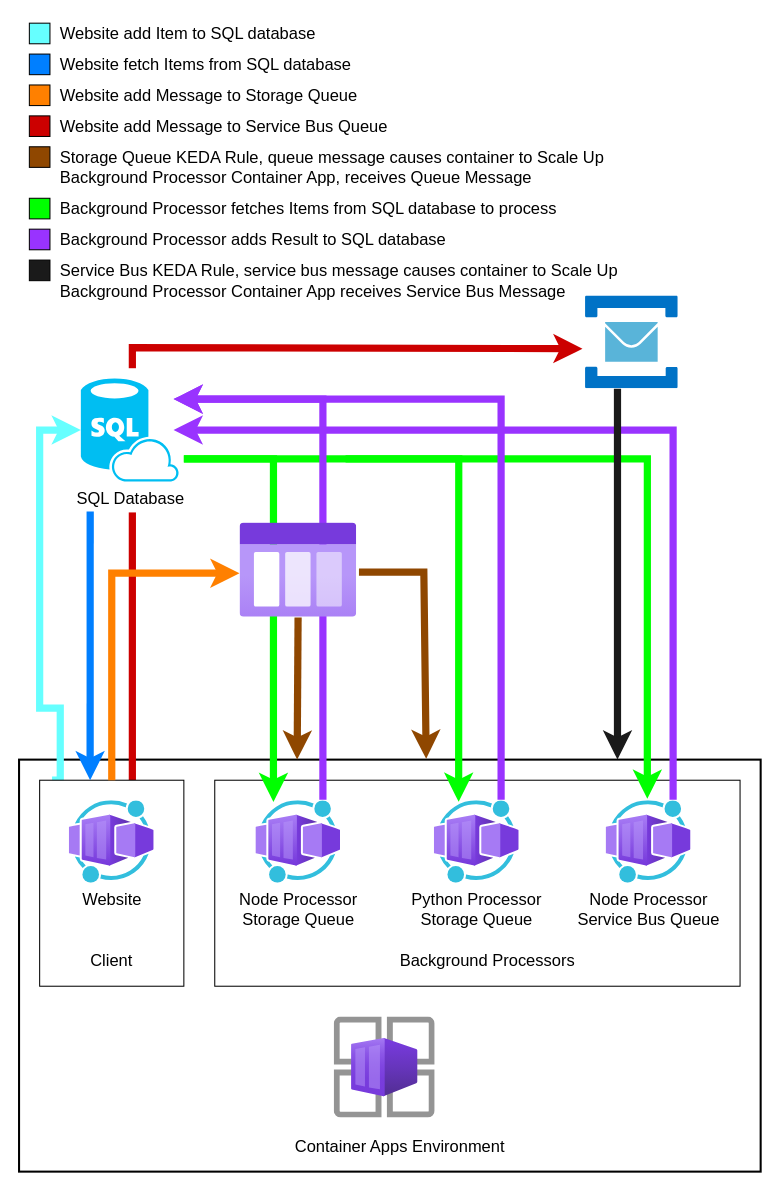
This 779x1190 diagram has some shape labels left out. The centre of each missing label's shape, as x and y in pixels:
"Service Bus Queue" belongs at point (631, 342).
"Storage Queue" belongs at point (298, 569).
